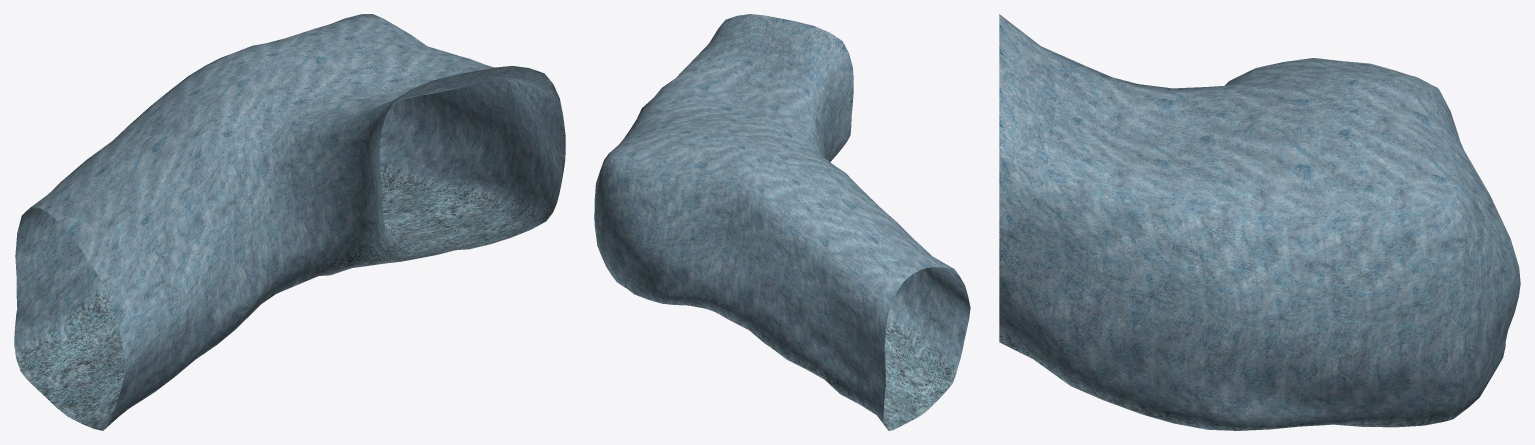
File: thm_all_cave_flatland_s01_ice_r10_mesh_r10.fbx
The picture shows the model from 3 angles, left to right: view 1: azimuth 30°, elevation 25°; view 2: azimuth 150°, elevation 25°; view 3: azimuth 270°, elevation 25°; orthographic projection. The views are drawn at different scales.
Visible parts, largest first — view 1: mesh_node; view 2: mesh_node; view 3: mesh_node.
Part boxes in pixels (x1,y1,x2,y2): mesh_node: (14, 14, 565, 430); mesh_node: (594, 14, 970, 430); mesh_node: (999, 14, 1520, 430).
Size of the model in its own units: 50.15 by 41.09 by 38.79.
